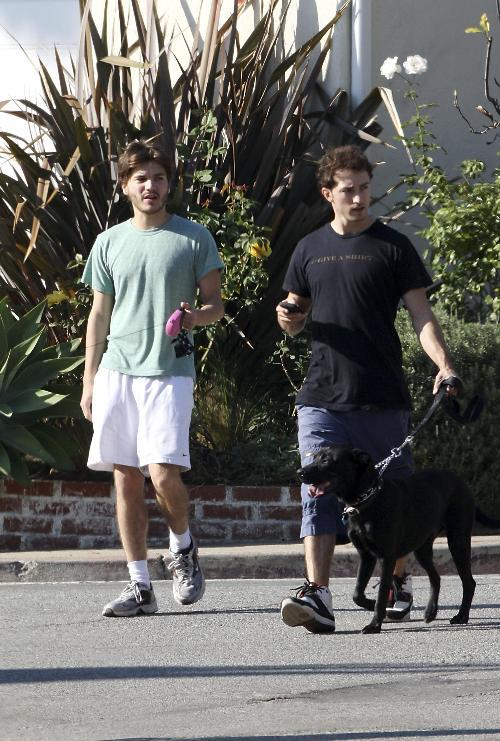person: (278, 145, 462, 632)
